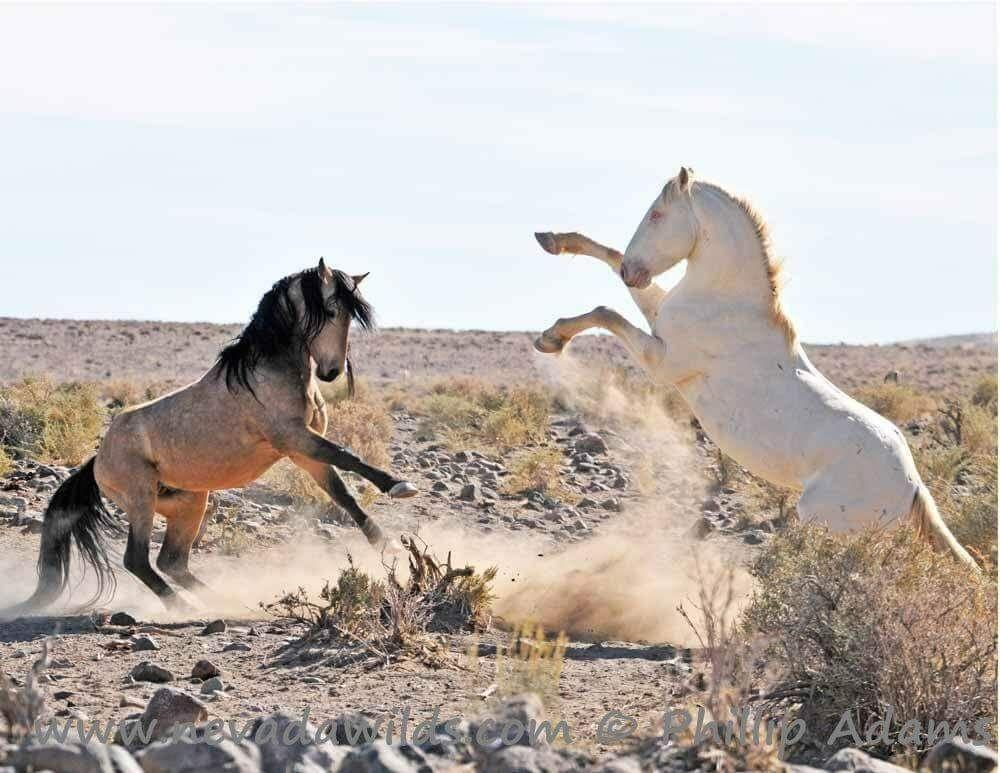horse: (531, 164, 983, 580), (5, 255, 418, 619)
